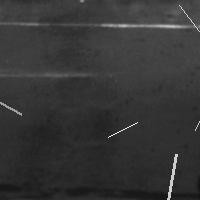scratches: (3, 18, 198, 31), (158, 149, 181, 200), (1, 70, 99, 81), (103, 117, 142, 142), (174, 0, 200, 36), (0, 87, 26, 119), (190, 97, 200, 135)
